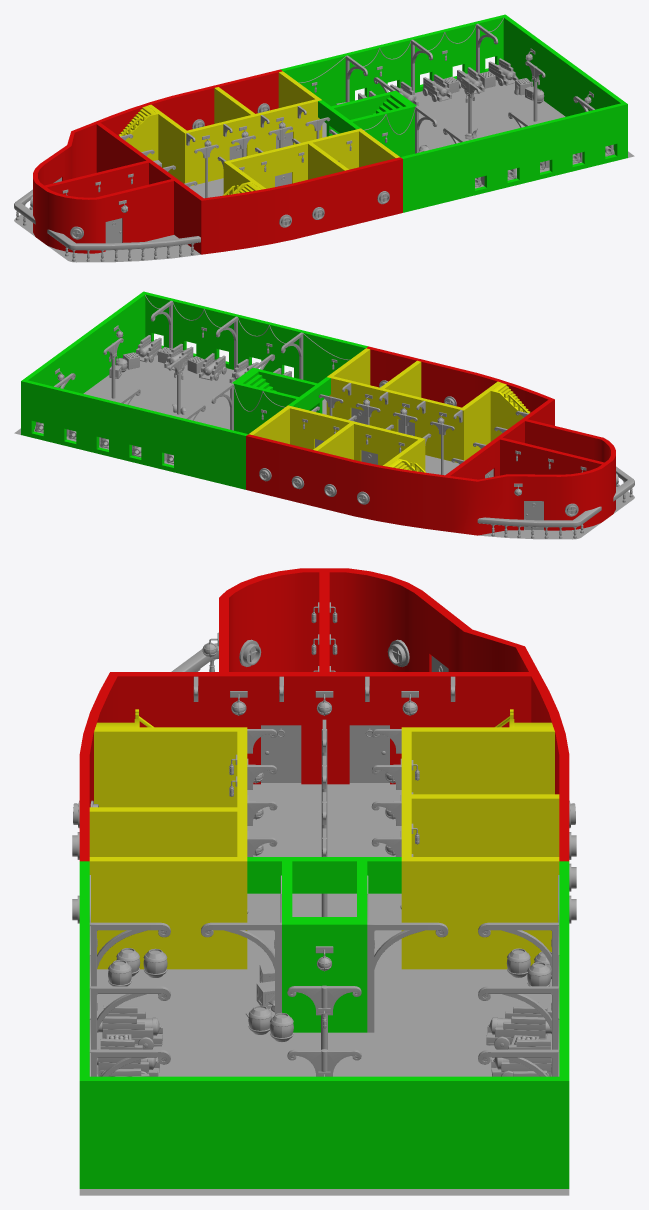
File: Rooms.fbx
The picture shows the model from 3 angles, top to bottom: view 1: azimuth 30°, elevation 25°; view 2: azimuth 150°, elevation 25°; view 3: azimuth 270°, elevation 25°; orthographic projection. The views are drawn at different scales.
Parts seen in each view (by area): view 1: Walls_low, Floor_low, StairsFront_low, OutsideRailingsTop_low, Windows_low, Cannon_low2, Cannon_low4, OutsideRailingsBot_low, Door_low4, Ropes_low, Cannon_low3, Pole2_low5 (+1 smaller); view 2: Walls_low, Floor_low, StairsFront_low, OutsideRailingsTop_low, Windows_low, Cannon_low7, Cannon_low5, Door_low, Ropes_low, Cannon_low6, OutsideRailingsBot_low, Pole1_low3 (+1 smaller); view 3: Walls_low, Floor_low, Windows_low, Door_low5, Door_low1, Pole1_low6, Cannon_low9, Cannon_low, Pole1_low7, WallPoles_low, WallPoles_low1, Pole1_low3 (+10 smaller).
Part boxes in pixels (x1,y1,x2,y2): Walls_low: (33, 14, 627, 254); Floor_low: (14, 80, 634, 262); StairsFront_low: (118, 106, 260, 195); OutsideRailingsTop_low: (14, 189, 200, 250); Windows_low: (30, 103, 389, 239); Cannon_low2: (422, 74, 451, 101); Cannon_low4: (488, 58, 518, 85); OutsideRailingsBot_low: (16, 203, 194, 261); Door_low4: (105, 218, 122, 250); Ropes_low: (299, 18, 503, 134); Cannon_low3: (457, 67, 484, 94); Pole2_low5: (525, 61, 545, 121); Walls_low: (21, 291, 615, 535); Floor_low: (14, 355, 634, 539); StairsFront_low: (388, 383, 530, 472); OutsideRailingsTop_low: (477, 466, 634, 527); Windows_low: (259, 380, 618, 516); Cannon_low7: (199, 353, 226, 380); Cannon_low5: (135, 335, 161, 362); Door_low: (524, 501, 543, 529); Ropes_low: (145, 295, 349, 411); Cannon_low6: (164, 343, 193, 371); OutsideRailingsBot_low: (491, 480, 632, 538); Pole1_low3: (281, 332, 303, 379); Walls_low: (79, 568, 569, 1188); Floor_low: (79, 783, 569, 1195); Windows_low: (72, 639, 576, 923); Door_low5: (261, 725, 301, 782); Door_low1: (349, 725, 389, 782); Pole1_low6: (367, 922, 448, 1032); Cannon_low9: (97, 1005, 162, 1049); Cannon_low: (486, 1006, 551, 1049); Pole1_low7: (201, 922, 281, 1014); WallPoles_low: (371, 729, 401, 856); WallPoles_low1: (247, 729, 277, 856); Pole1_low3: (89, 922, 170, 986).
Size of the model in its own units: 4749 by 478 by 1948.
